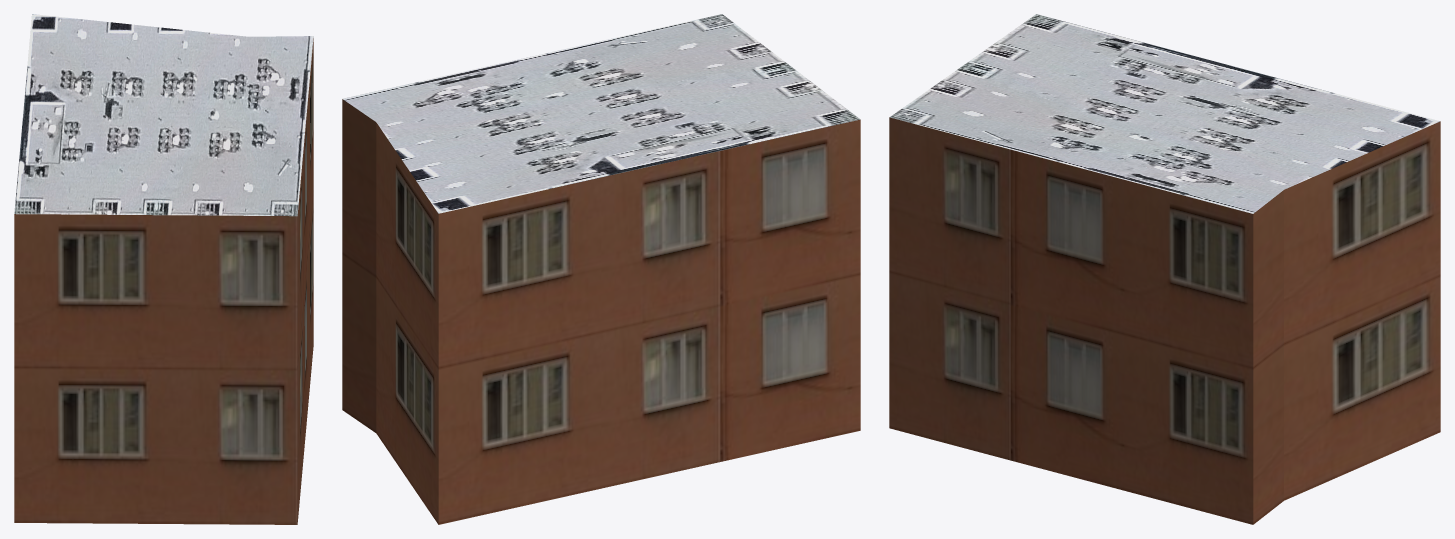
Rendered from ResTex__4557.fbx.
3 views of the same model, side by side, from view 1: azimuth 30°, elevation 25°; view 2: azimuth 150°, elevation 25°; view 3: azimuth 270°, elevation 25° (orthographic).
Parts seen in each view (by area): view 1: CityEngineMaterial_20_m, CityEngineMaterial_2_m; view 2: CityEngineMaterial_20_m, CityEngineMaterial_2_m; view 3: CityEngineMaterial_20_m, CityEngineMaterial_2_m.
Boxes of the visible parts, <box> form: CityEngineMaterial_20_m: <box>14,38,313,524</box>; CityEngineMaterial_2_m: <box>14,14,313,216</box>; CityEngineMaterial_20_m: <box>342,99,860,524</box>; CityEngineMaterial_2_m: <box>342,14,860,213</box>; CityEngineMaterial_20_m: <box>889,117,1440,524</box>; CityEngineMaterial_2_m: <box>890,14,1439,213</box>.
Size of the model in its own units: 8.28 by 6 by 9.64.
Materials: 2 (2 with a texture image).
